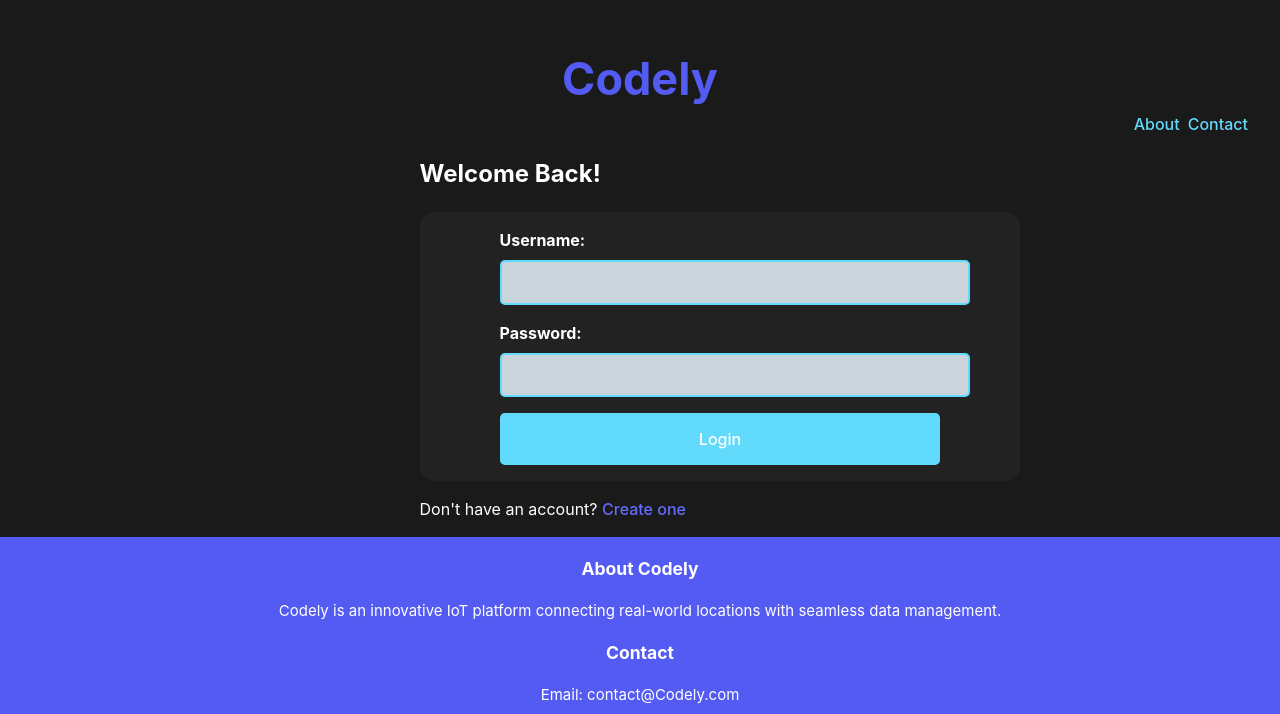
Test case: LoginPage › shows error message when incorrect username is entered
In the field labelled "Username:": (735, 282) [500,260,970,305], type "wrongUser"
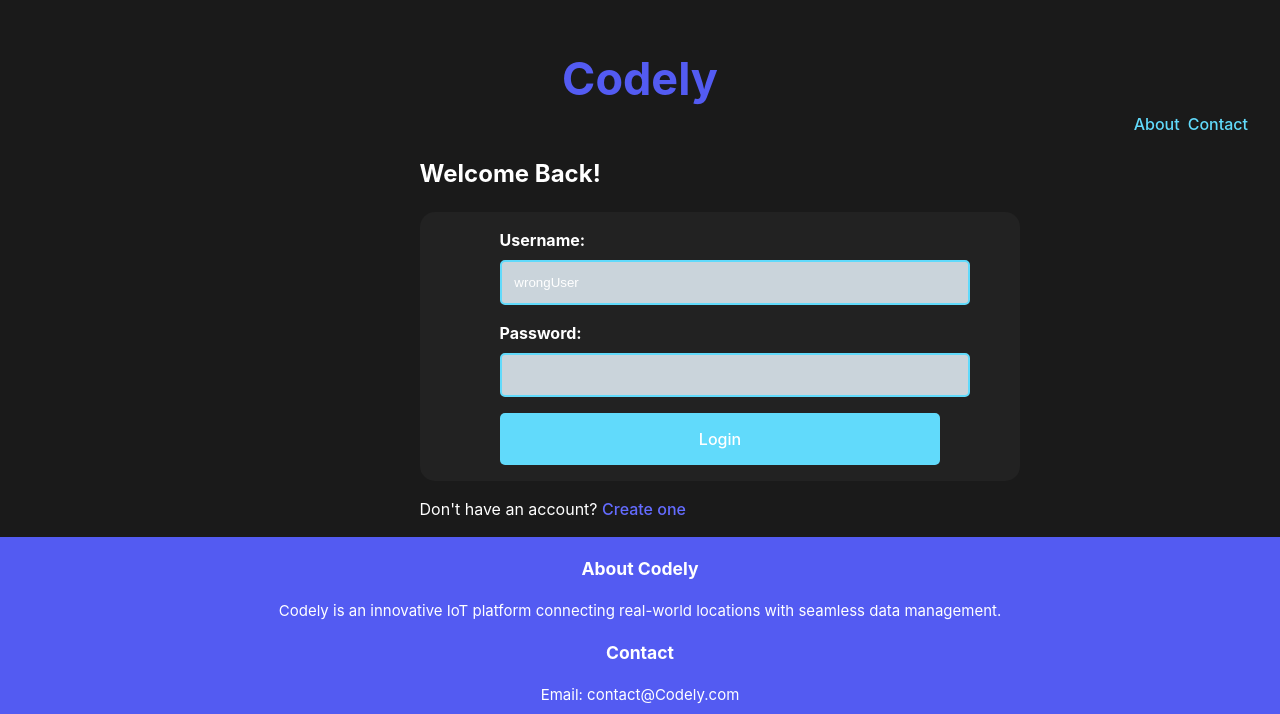
In the password field labelled "Password:": (735, 375) [500,353,970,397], type "password1"
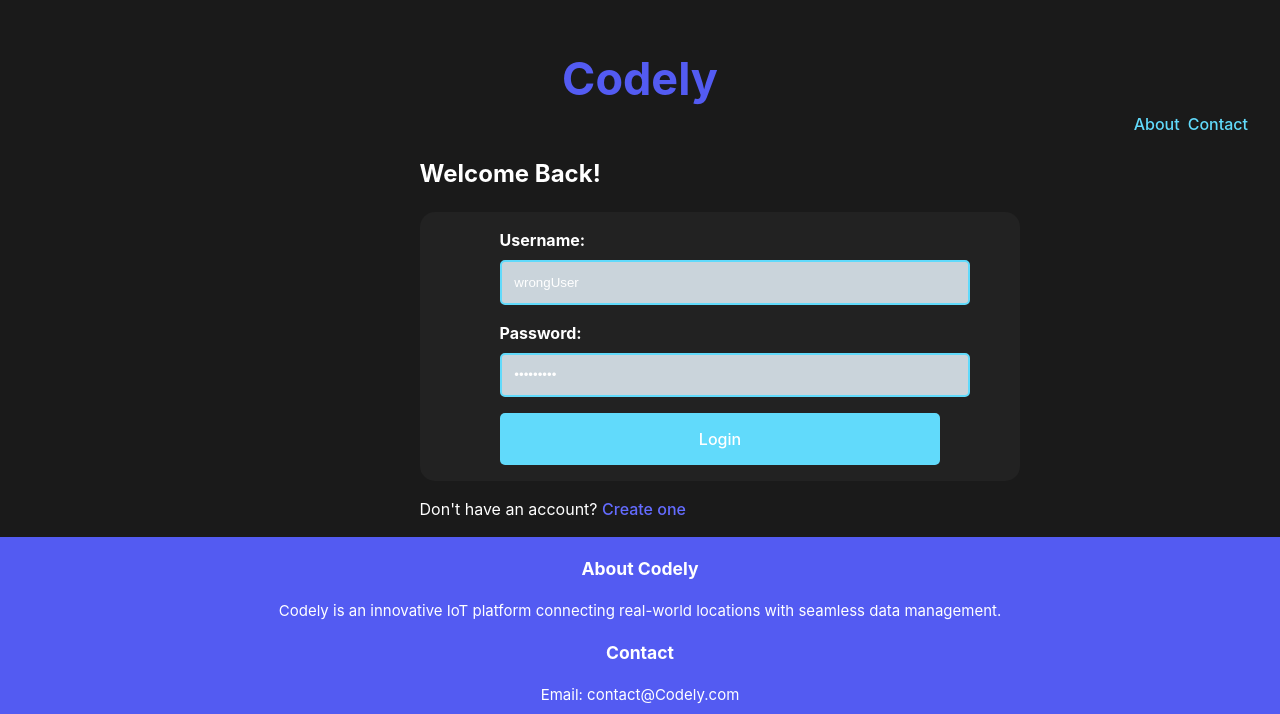
Click the button "Login": (720, 439) [500,413,940,465]
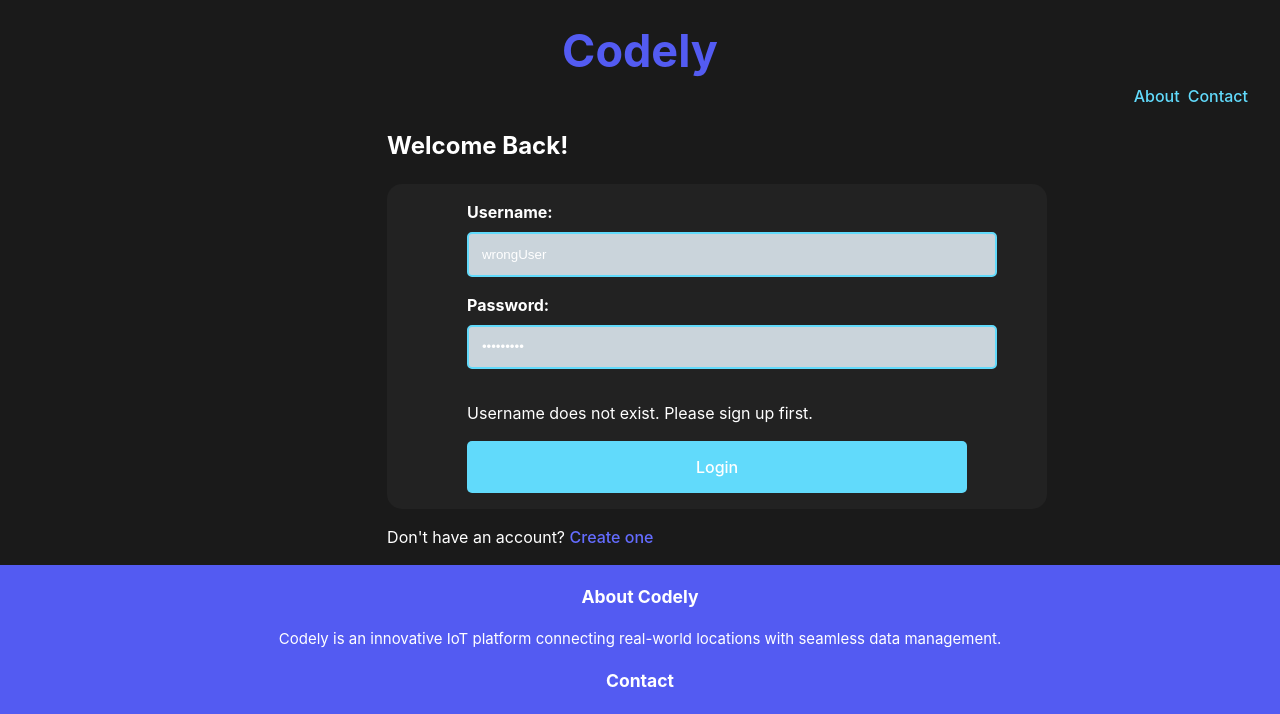
Now the text "Username does not exist. Please sign up first." is shown, box [467,403,813,423]
